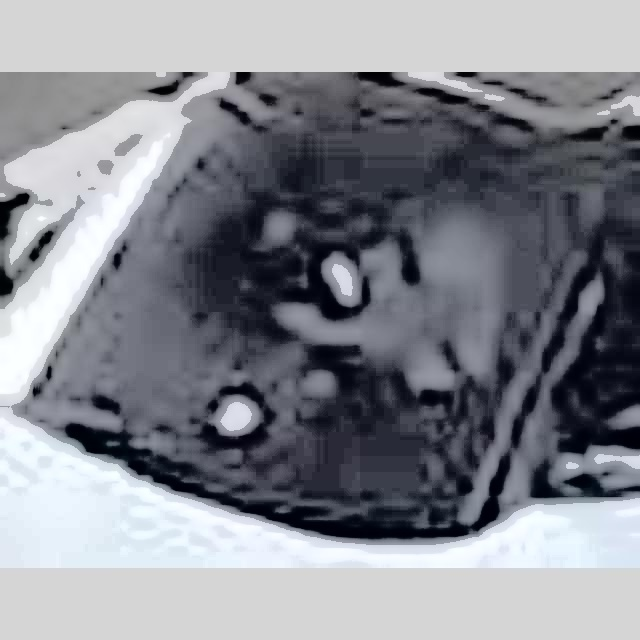pakai: (286, 185, 504, 418)
